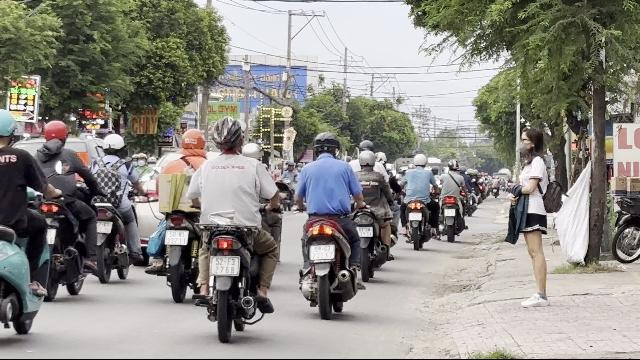helmet: (211, 116, 247, 154), (42, 120, 70, 148), (180, 127, 207, 156), (310, 132, 340, 158), (0, 108, 18, 148), (101, 132, 125, 156), (242, 142, 262, 160), (358, 150, 376, 168), (412, 153, 428, 167), (358, 139, 374, 151)
licenseplate: (210, 256, 240, 276), (310, 244, 334, 260), (165, 229, 188, 244), (358, 226, 372, 236), (96, 221, 110, 231), (408, 212, 422, 220)
motorcyclist: (190, 114, 284, 340), (292, 130, 364, 316), (0, 104, 50, 348), (31, 119, 98, 299), (145, 122, 205, 300), (90, 130, 140, 282), (352, 138, 398, 278), (398, 152, 439, 248)
